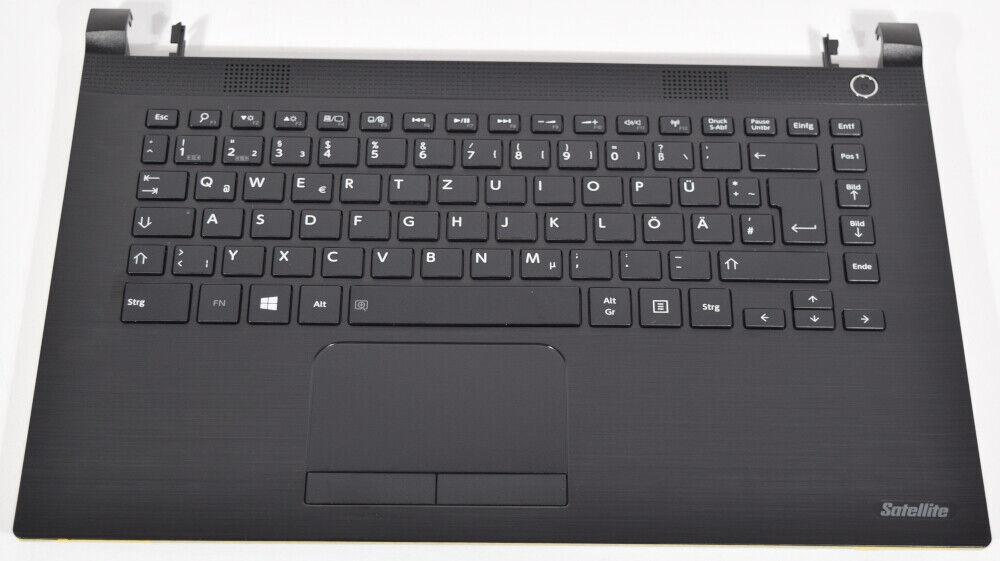0: (601, 137, 644, 167)
1: (170, 132, 213, 162)
2: (218, 132, 262, 162)
3: (266, 132, 309, 163)
4: (315, 134, 355, 164)
5: (362, 135, 404, 164)
6: (410, 135, 452, 165)
7: (458, 135, 501, 166)
8: (506, 137, 549, 167)
9: (554, 136, 597, 167)
a: (198, 204, 240, 236)
accent: (698, 138, 739, 168)
ae: (687, 210, 731, 241)
alt-left: (295, 280, 340, 322)
altgr-right: (584, 282, 630, 324)
b: (416, 244, 461, 276)
c: (317, 243, 361, 276)
caret: (138, 130, 165, 160)
comma: (566, 246, 609, 278)
d: (295, 206, 338, 238)
del: (745, 138, 815, 168)
e: (287, 169, 331, 200)
enter: (764, 172, 823, 243)
f: (344, 206, 387, 238)
g: (393, 207, 435, 238)
h: (442, 207, 485, 239)
hash: (737, 210, 771, 241)
i: (529, 172, 572, 203)
j: (492, 208, 534, 239)
k: (540, 208, 584, 240)
keyboard: (102, 98, 901, 336)
l: (590, 209, 633, 240)
less: (169, 241, 214, 274)
m: (516, 245, 561, 277)
minus: (664, 247, 708, 278)
n: (466, 245, 510, 277)
o: (577, 173, 620, 204)
oe: (638, 209, 681, 241)
p: (626, 174, 668, 204)
plus: (723, 173, 758, 204)
point: (616, 246, 659, 278)
q: (190, 167, 234, 199)
r: (336, 169, 378, 201)
s: (246, 205, 289, 237)
shift-left: (123, 240, 163, 273)
shift-lock: (129, 203, 192, 234)
shift-right: (715, 247, 828, 279)
space: (344, 281, 578, 324)
ss: (649, 138, 691, 167)
strg-left: (115, 278, 190, 321)
strg-right: (684, 283, 731, 326)
t: (384, 170, 426, 201)
tab: (133, 166, 185, 197)
u: (481, 171, 523, 203)
ue: (674, 174, 717, 204)
v: (367, 244, 411, 276)
w: (239, 167, 282, 199)
x: (268, 242, 312, 275)
y: (218, 242, 263, 274)
z: (433, 171, 475, 202)
